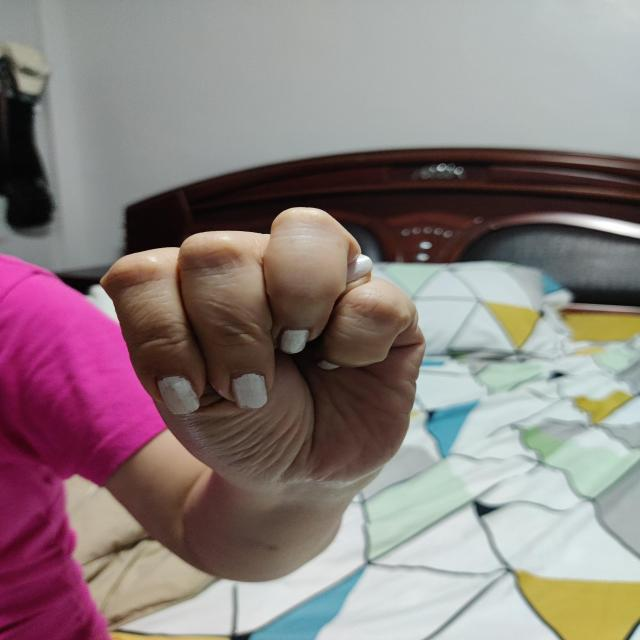M: (99, 206, 427, 490)
